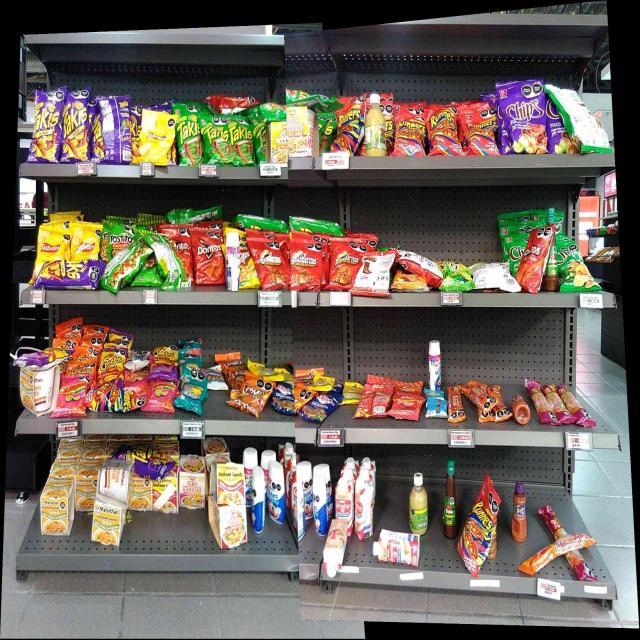bitzAlmendras: (428, 394, 448, 424)
bitzEnchilado90: (396, 388, 420, 423), (366, 382, 389, 418)
bitzEnchilado95: (466, 379, 506, 422), (522, 545, 559, 569), (450, 384, 462, 425)
bitzHabanero: (532, 383, 578, 426), (541, 501, 565, 535)
bokadosCacahuates: (305, 393, 335, 420), (276, 383, 292, 416)
chipsFuego: (504, 92, 544, 154)
chipsJalapeno: (556, 239, 588, 292)
chipsPapatinas: (442, 257, 471, 290)
churrumais: (61, 376, 88, 418), (148, 383, 175, 413)
delPrimoSalsa: (407, 469, 429, 533), (366, 96, 386, 154)
doritosNacho: (195, 229, 222, 284), (523, 232, 543, 292), (176, 231, 191, 255)
leoMix: (236, 372, 265, 417)
maruchanPollo: (18, 367, 59, 418), (42, 474, 72, 537), (93, 497, 123, 544), (126, 479, 150, 513), (75, 469, 92, 513)
maruchanRes: (212, 460, 245, 502), (152, 479, 179, 515)
nestleCarnation: (372, 536, 422, 564), (354, 481, 373, 534), (335, 480, 353, 517)
nestleLechera: (266, 460, 287, 526), (312, 472, 329, 532), (250, 466, 265, 529), (225, 232, 240, 292), (428, 338, 442, 388), (298, 461, 309, 518)
nissinCamaron: (286, 104, 316, 157)
nissinRes: (216, 504, 248, 546), (180, 457, 206, 508)
productoAtras: (562, 89, 594, 152), (102, 99, 128, 161), (110, 252, 152, 288), (472, 260, 517, 292), (359, 252, 392, 294), (155, 240, 175, 287)
rancheritos: (258, 244, 287, 288), (330, 249, 359, 286), (292, 248, 319, 286)
runners: (465, 487, 498, 578), (395, 105, 427, 156), (467, 106, 498, 157), (338, 96, 365, 151), (429, 106, 457, 154), (87, 386, 138, 412)
sabritasOriginal: (142, 118, 172, 161), (39, 227, 66, 260), (72, 229, 98, 260)
salsaBufalo: (442, 459, 459, 538), (544, 246, 556, 290)
semillasCalabaza: (344, 384, 360, 404)
semillasGirasol: (180, 385, 205, 413)
tajinDulce: (512, 481, 527, 540)
takisFuego: (33, 92, 63, 163), (64, 96, 90, 160), (38, 262, 101, 288), (122, 447, 169, 474)
takisOriginal: (176, 114, 202, 166), (203, 117, 228, 165), (230, 120, 252, 164)
tostitos: (109, 224, 134, 246)
